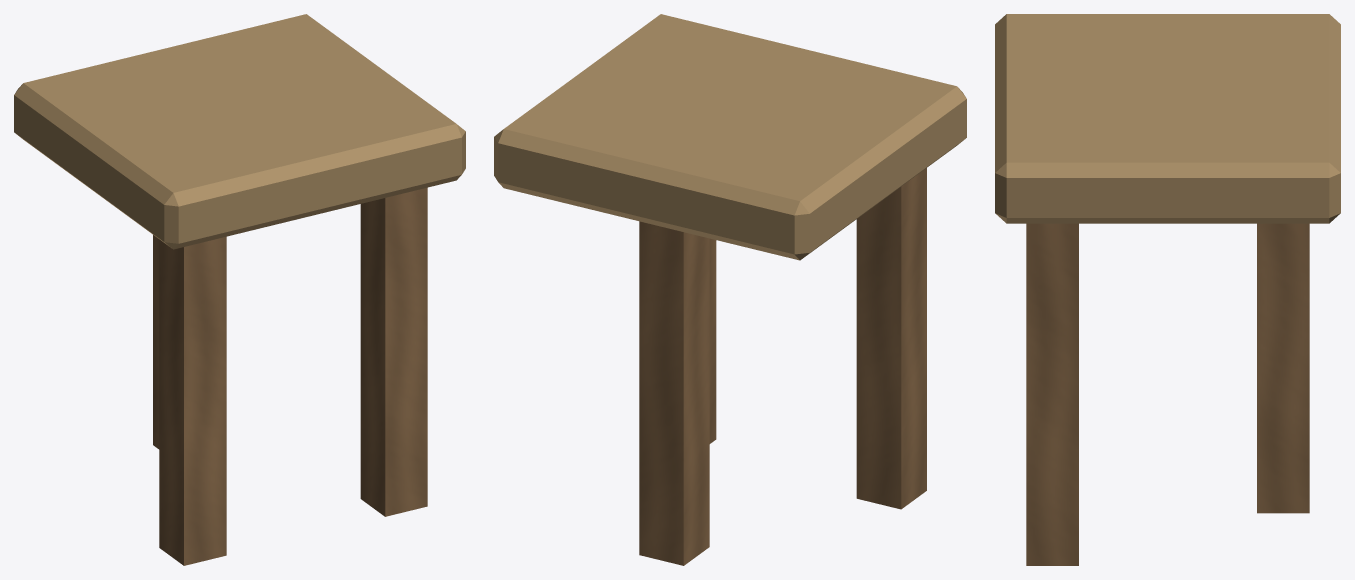
The model's file is stool.glb.
3 renders of one model, left to right at view 1: azimuth 30°, elevation 25°; view 2: azimuth 150°, elevation 25°; view 3: azimuth 270°, elevation 25°, orthographic. The views are drawn at different scales.
Visible parts, largest first — view 1: stool; view 2: stool; view 3: stool.
Part boxes in pixels (box(x1,y1,x2,y2)): stool: box(14, 14, 465, 565); stool: box(494, 14, 966, 565); stool: box(995, 14, 1340, 565).
Size of the model in its own units: 0.39 by 0.475 by 0.36.
Materials: 2 (1 with a texture image).
